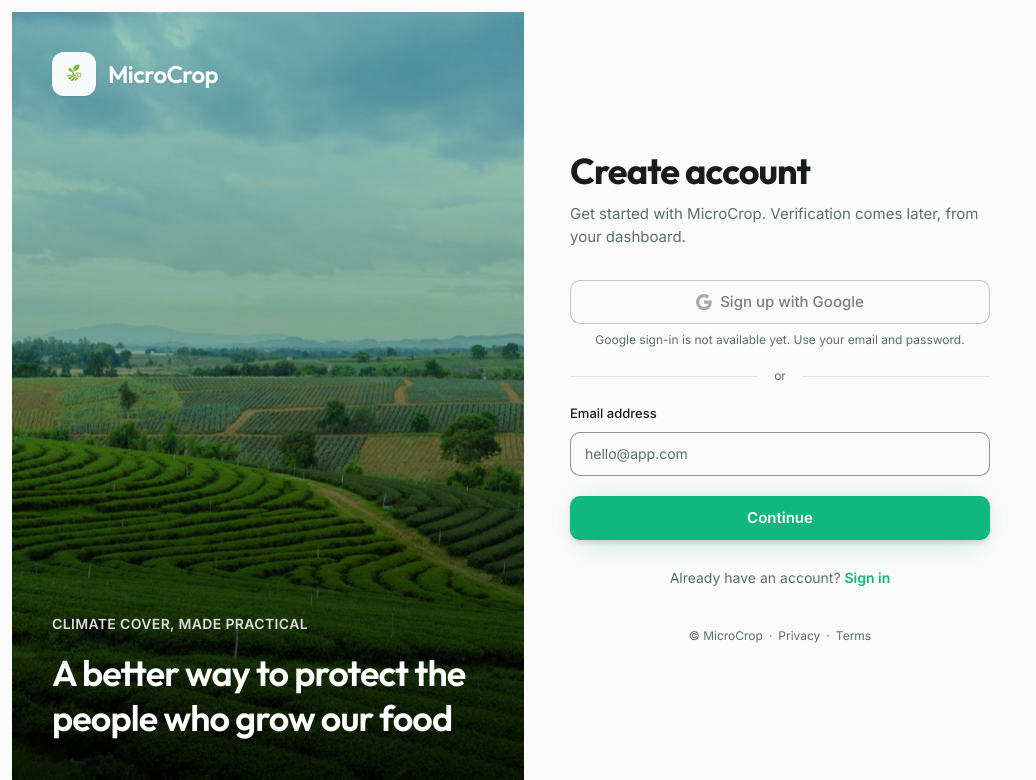
Test: step one — email › will not advance on a malformed address
The width and height of the screenshot is (1036, 780).
Type "nope" into the field labelled "Email address" at [780, 454], box [570,432,990,476]
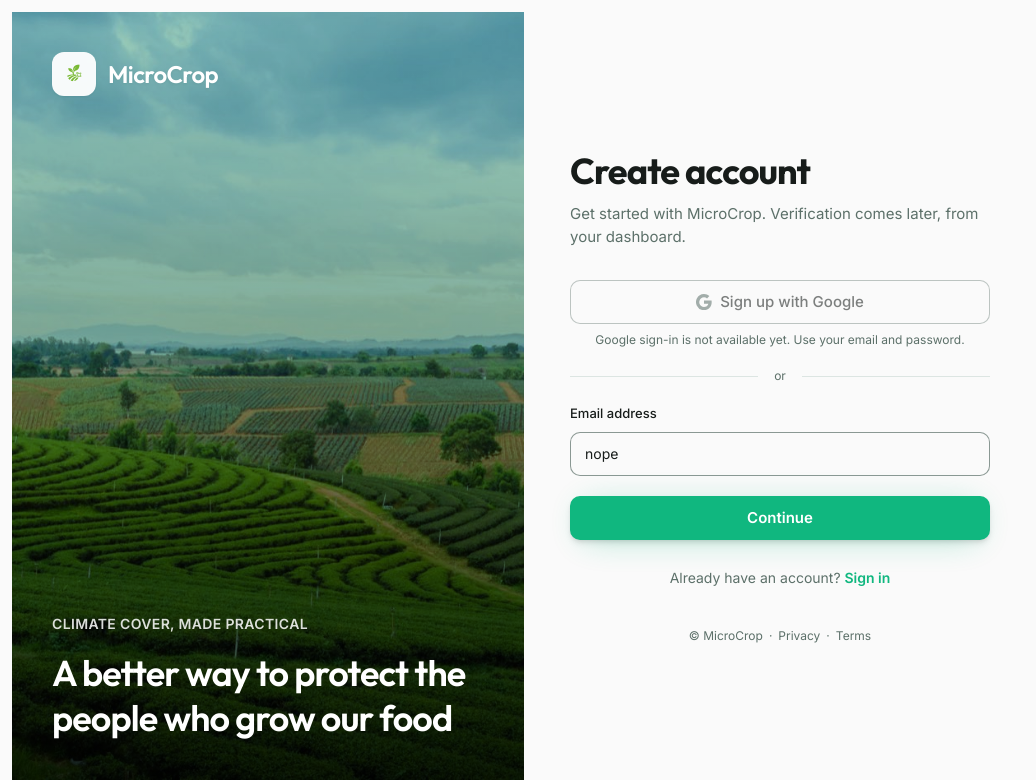
Click the button "Continue" at [780, 518], box [570,496,990,540]
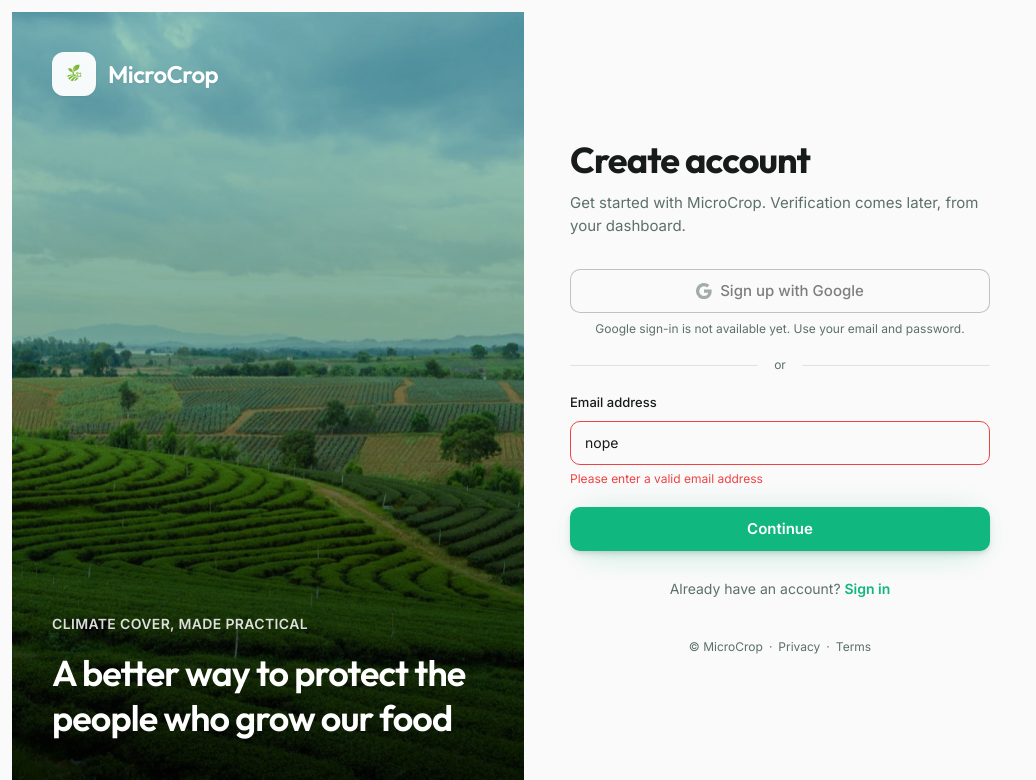
Expected: the message shows "valid email address", [570,471,763,486]
